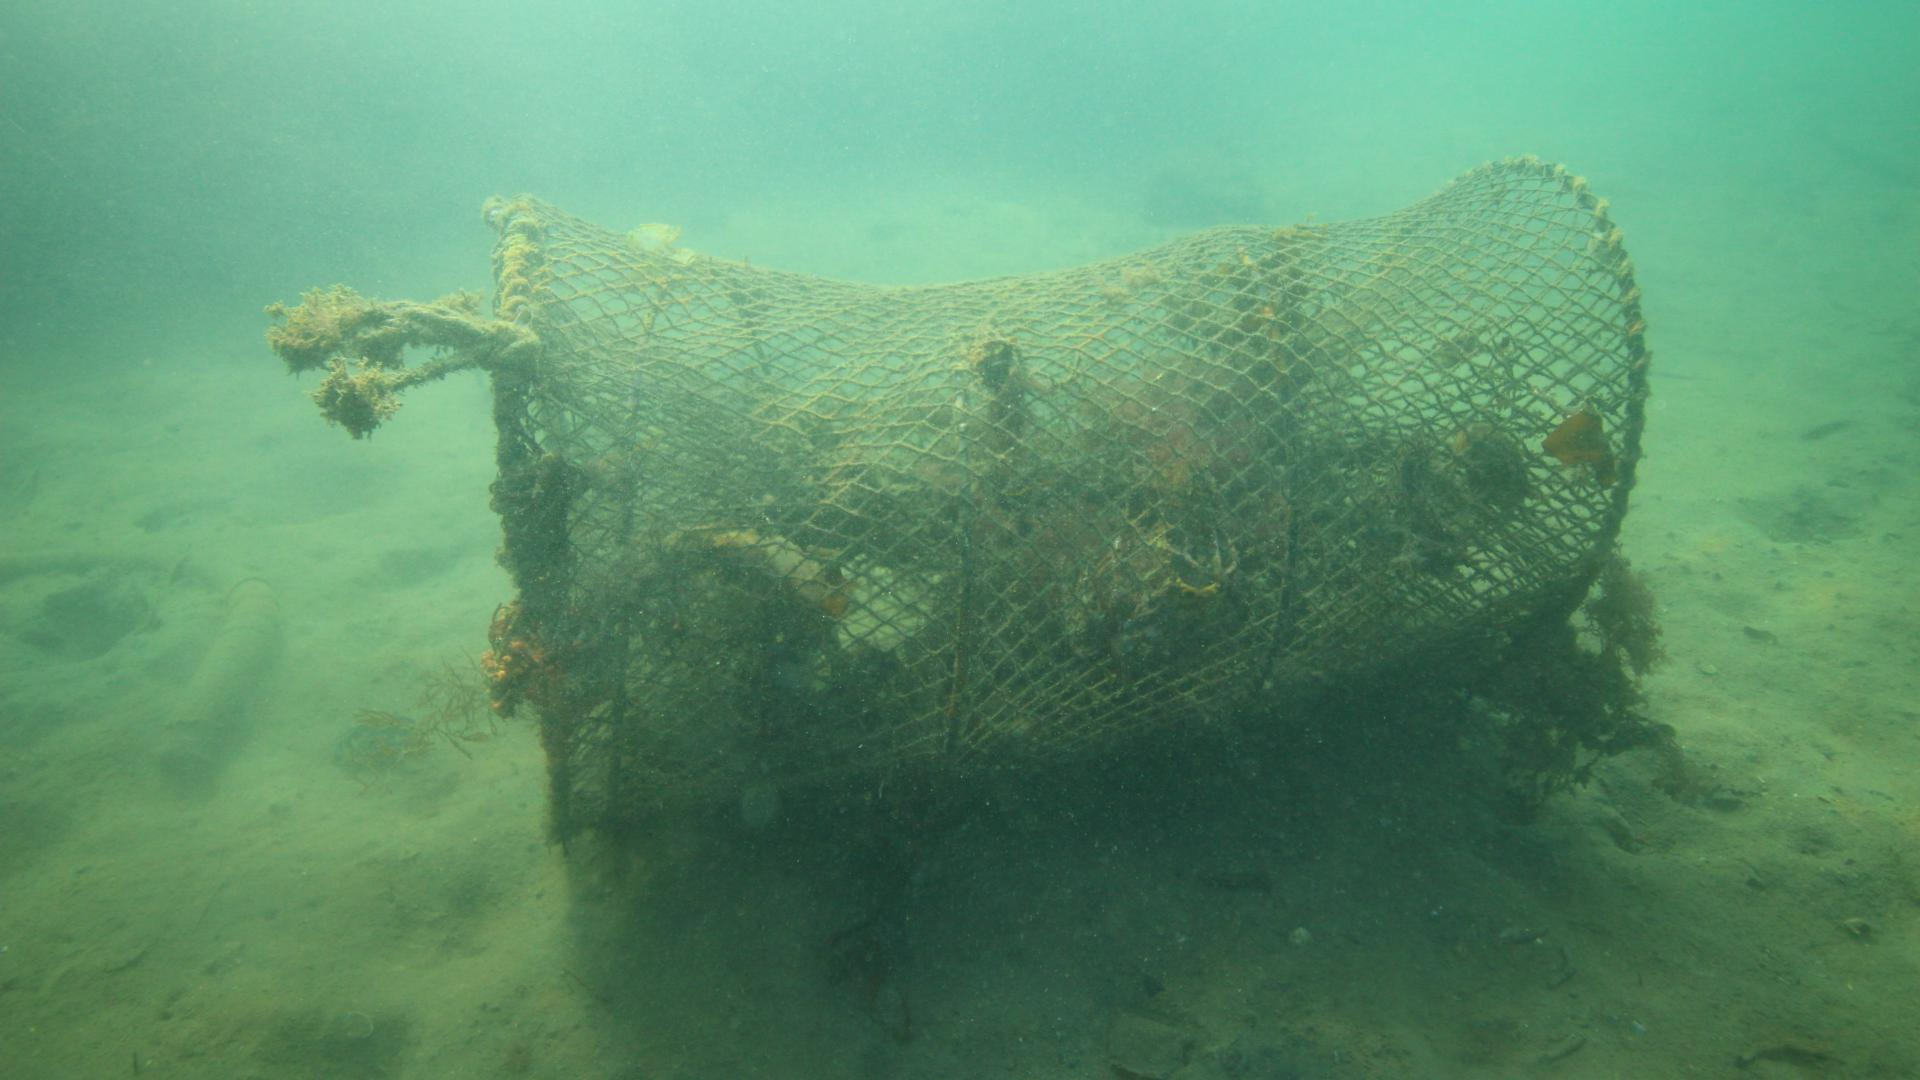spring fish trap: (487, 153, 1650, 848)
